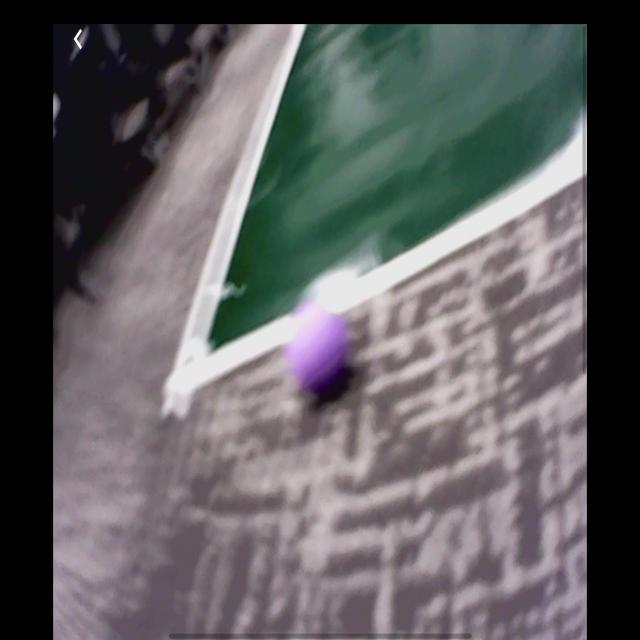ball: (284, 301, 355, 406)
